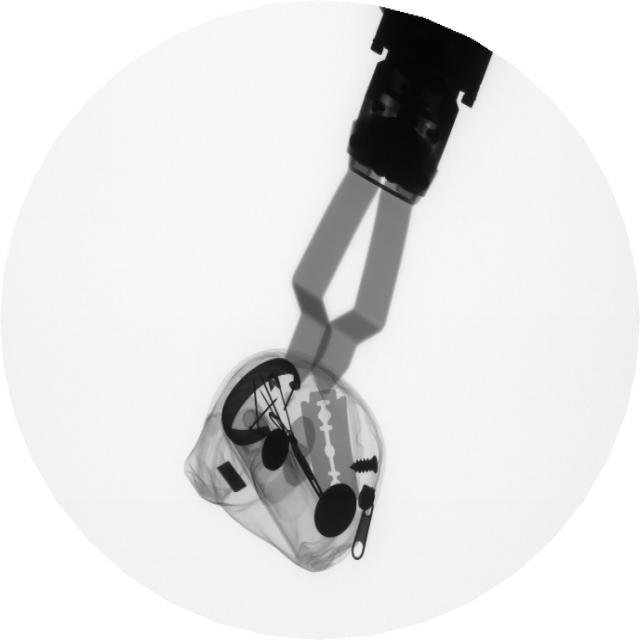BLADE: (293, 380, 363, 493)
